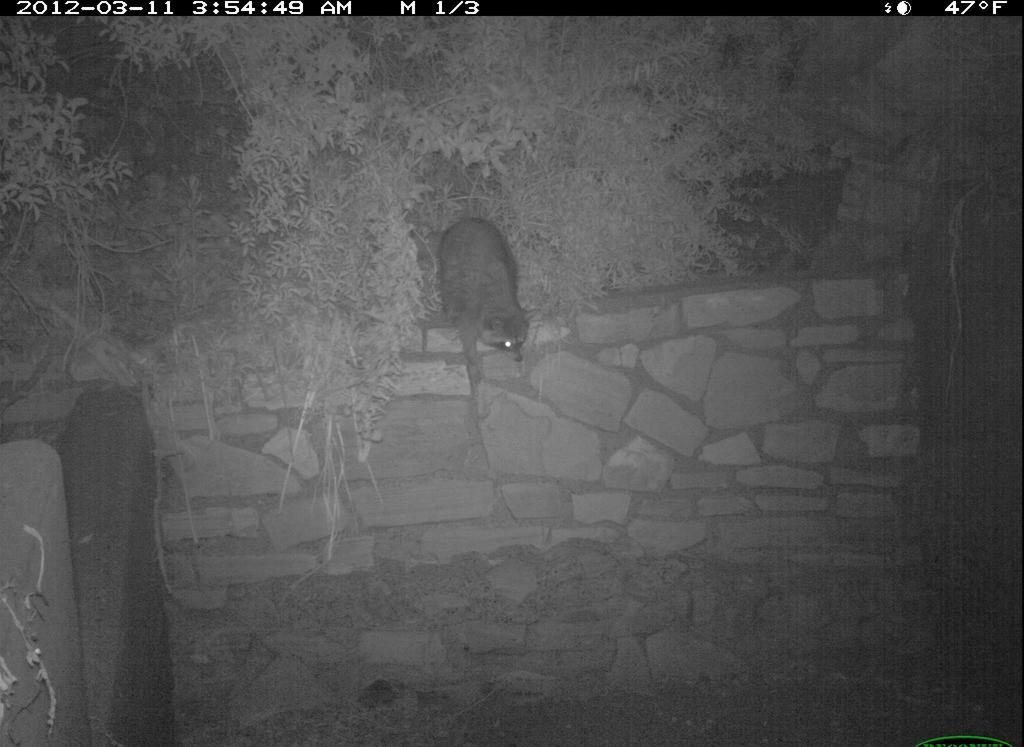raccoon: (434, 213, 538, 410)
